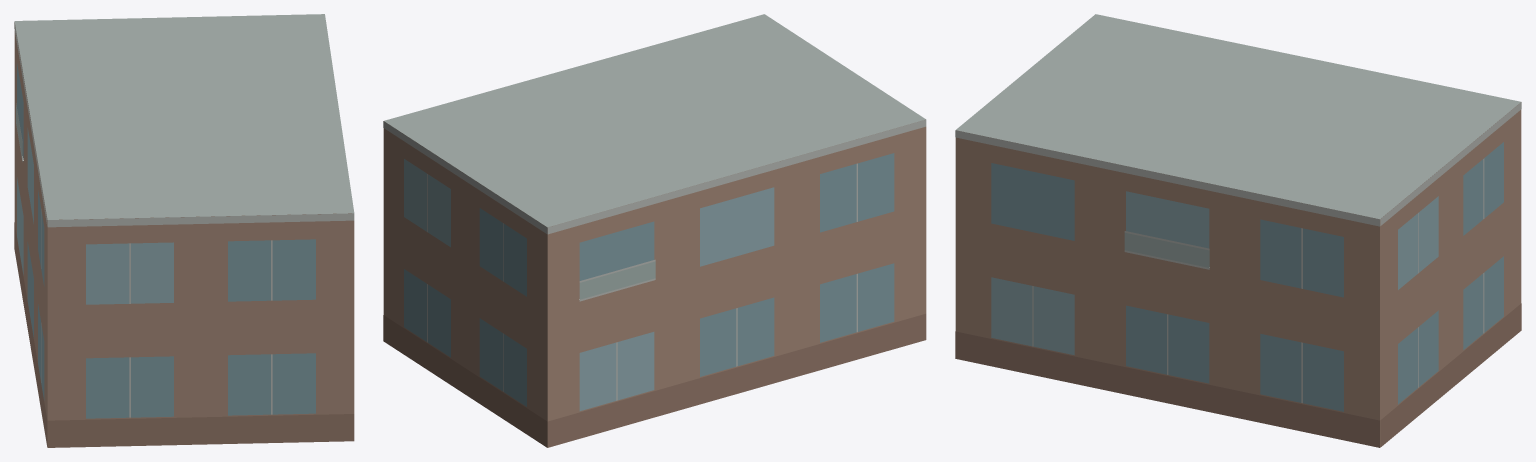
File: survey-upis-32886160.glb
The picture shows the model from 3 angles, left to right: view 1: azimuth 30°, elevation 25°; view 2: azimuth 150°, elevation 25°; view 3: azimuth 270°, elevation 25°; orthographic projection. The views are drawn at different scales.
Parts seen in each view (by area): view 1: survey-upis-32886160.tmp; view 2: survey-upis-32886160.tmp; view 3: survey-upis-32886160.tmp.
Boxes of the visible parts, left/top/right/bottom form: survey-upis-32886160.tmp: left=14, top=14, right=354, bottom=447; survey-upis-32886160.tmp: left=383, top=14, right=926, bottom=447; survey-upis-32886160.tmp: left=955, top=14, right=1521, bottom=447.
Size of the model in its own units: 14.64 by 7.6 by 17.06.
